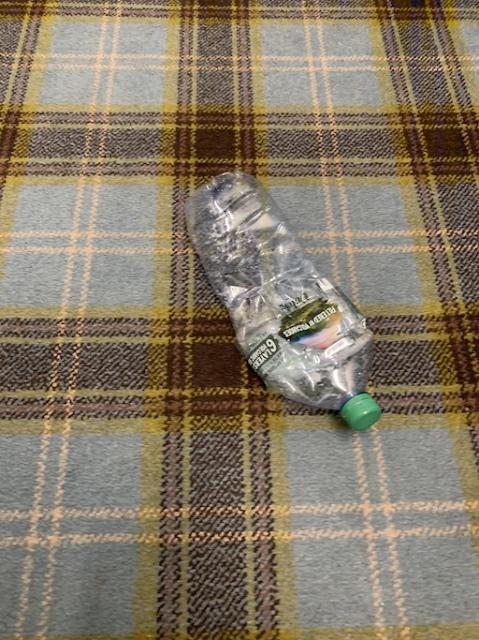plastic: (185, 171, 380, 428)
